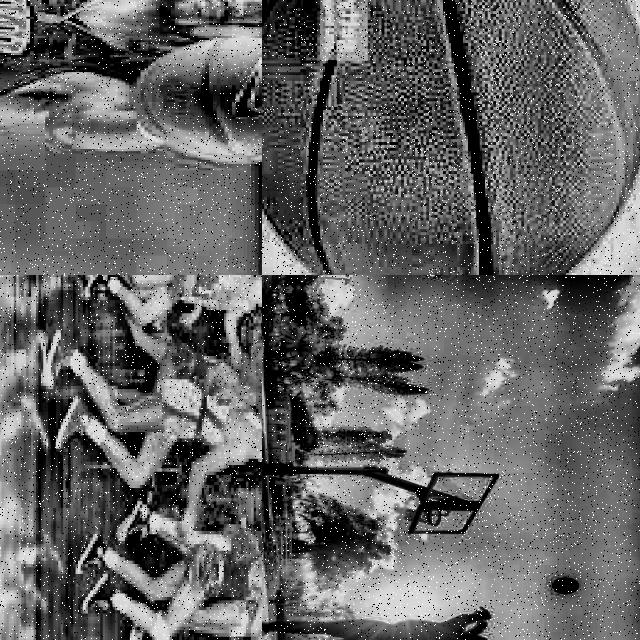Basketball: (132, 36, 262, 164), (554, 578, 578, 592)
